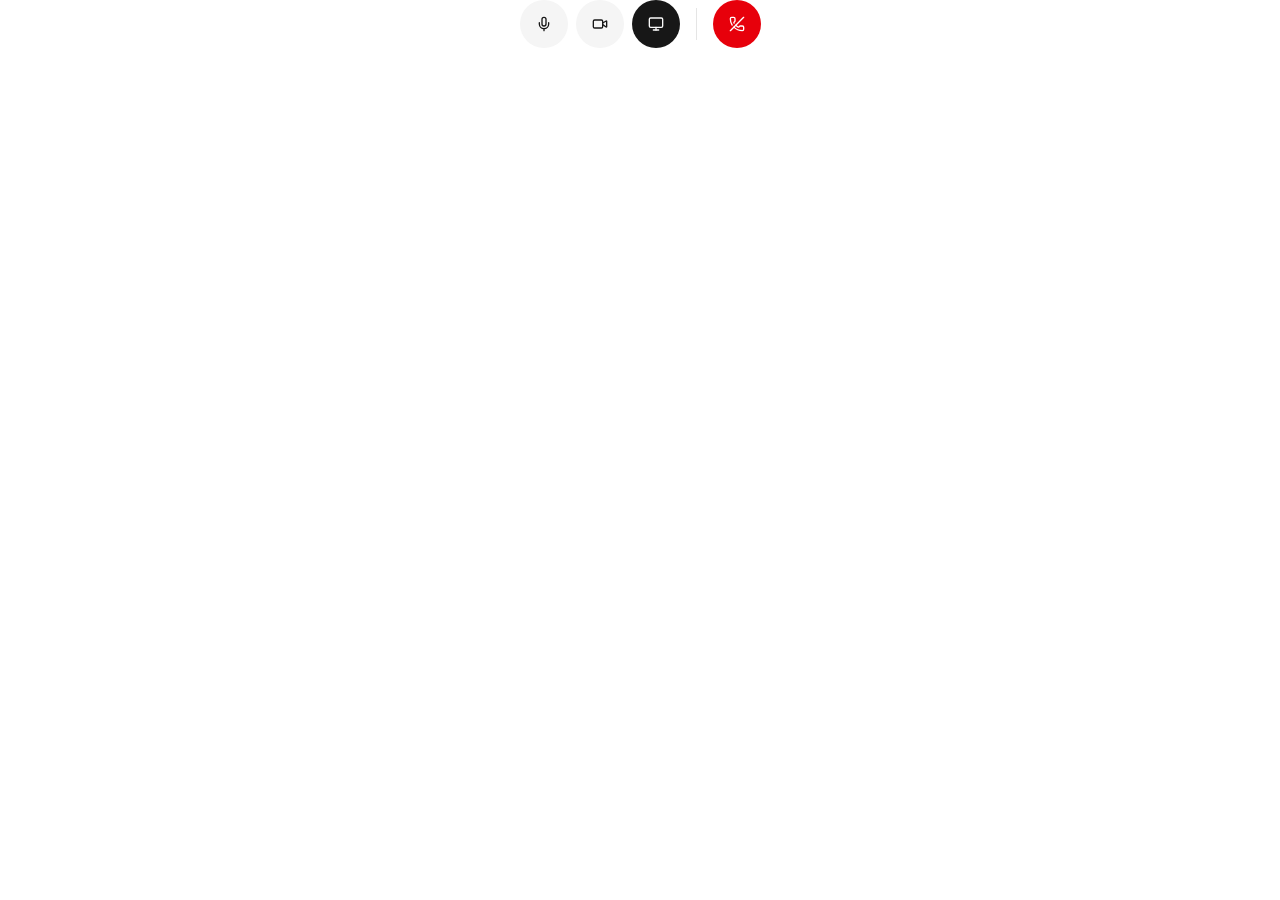
Test: Leave Confirmation Dialog › Dialog Actions › closes dialog when Stay in Meeting is clicked
What coordinates should you click on to do the following:
click the button named "leave meeting"
I would click on:
 (736, 24)
Its box is [712,0,760,48].
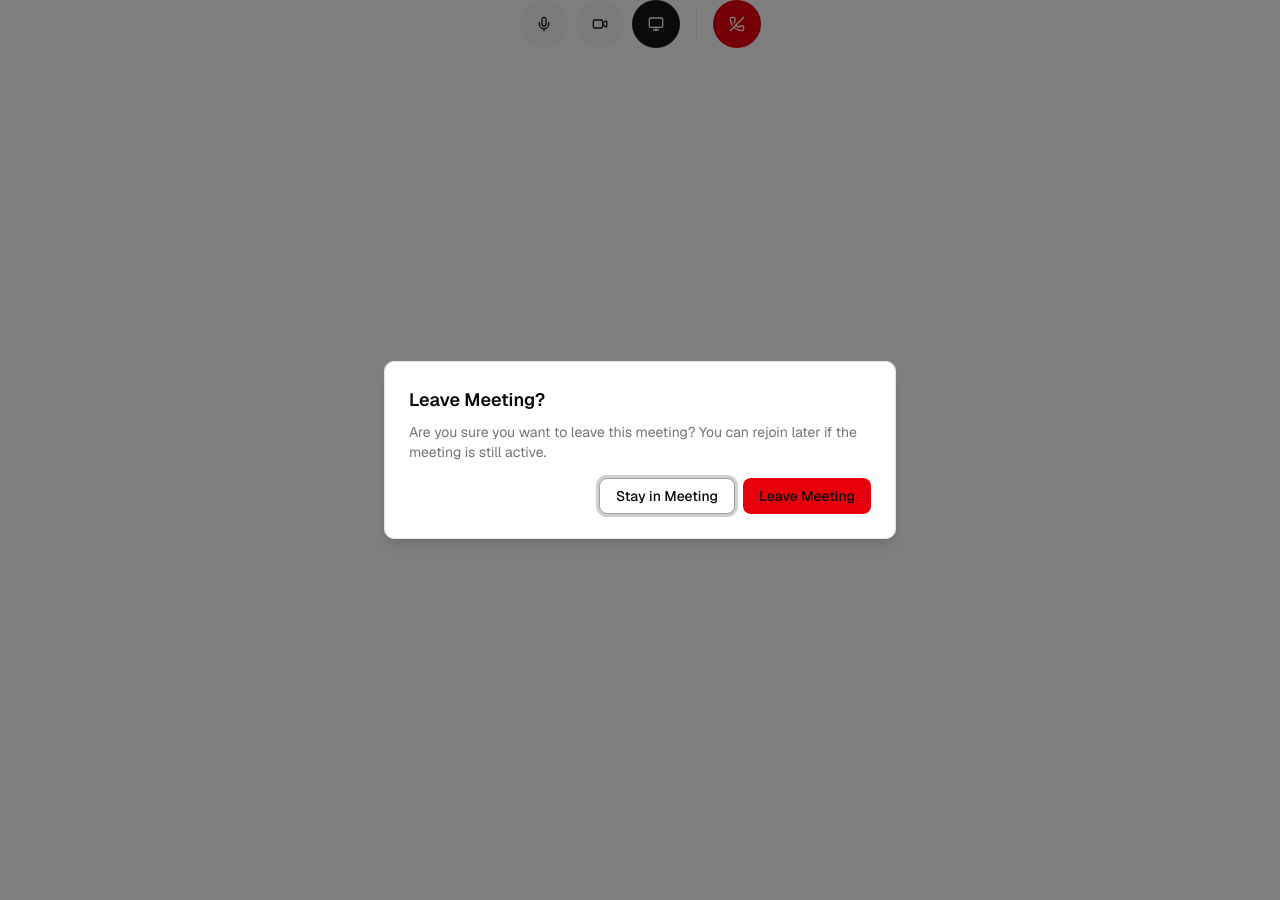
Expected: the button "Stay in Meeting" is shown
What coordinates should you click on to do the following:
click the button "Stay in Meeting"
I would click on:
 (667, 496)
Its box is [599,478,735,514].
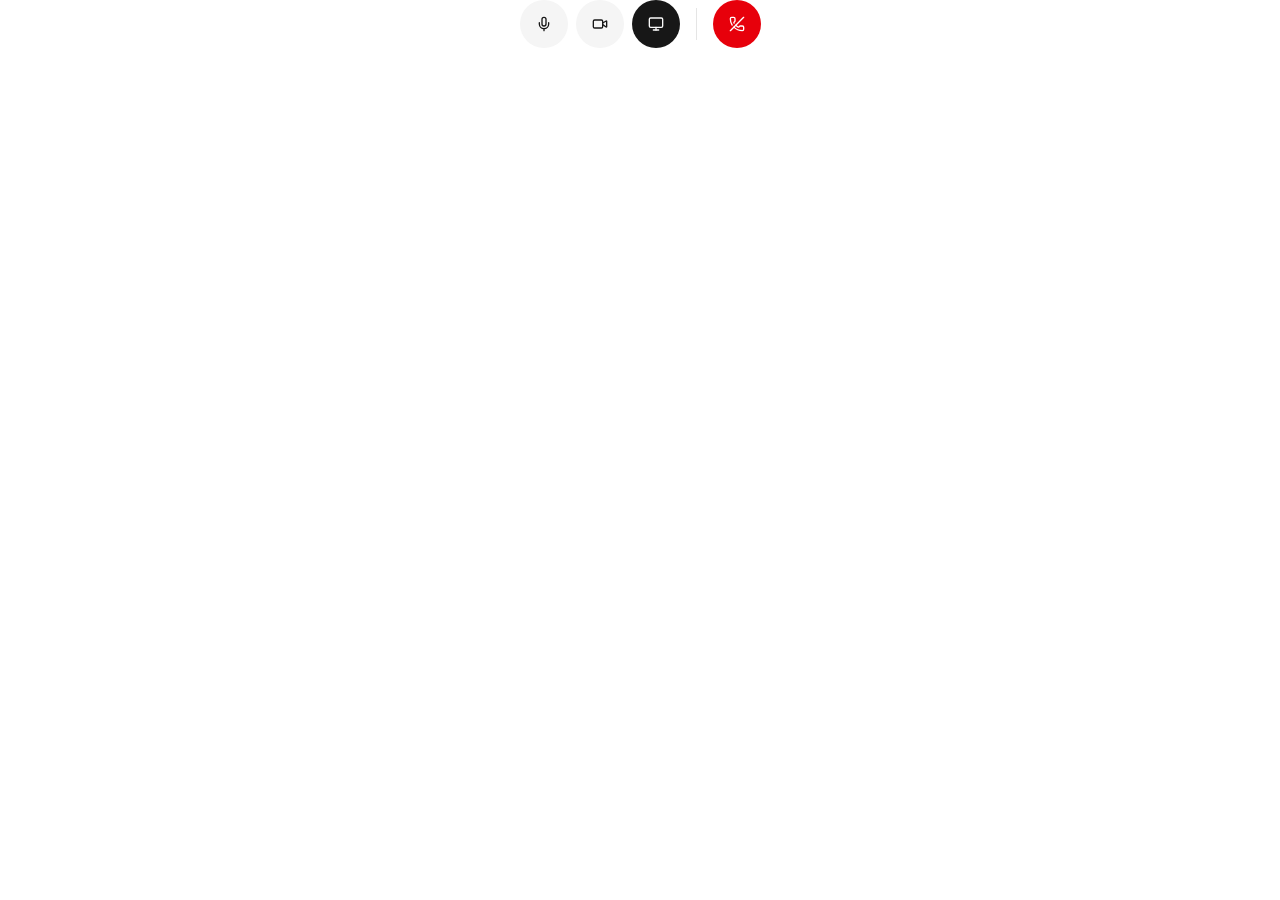
Expected: the heading "Leave Meeting?" is gone
